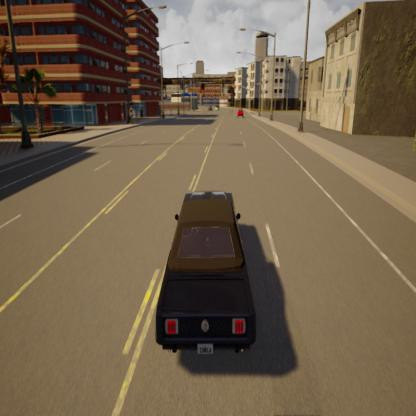Cars: (150, 190, 260, 362), (235, 105, 245, 119)
Pedestrian: (128, 103, 134, 121)
